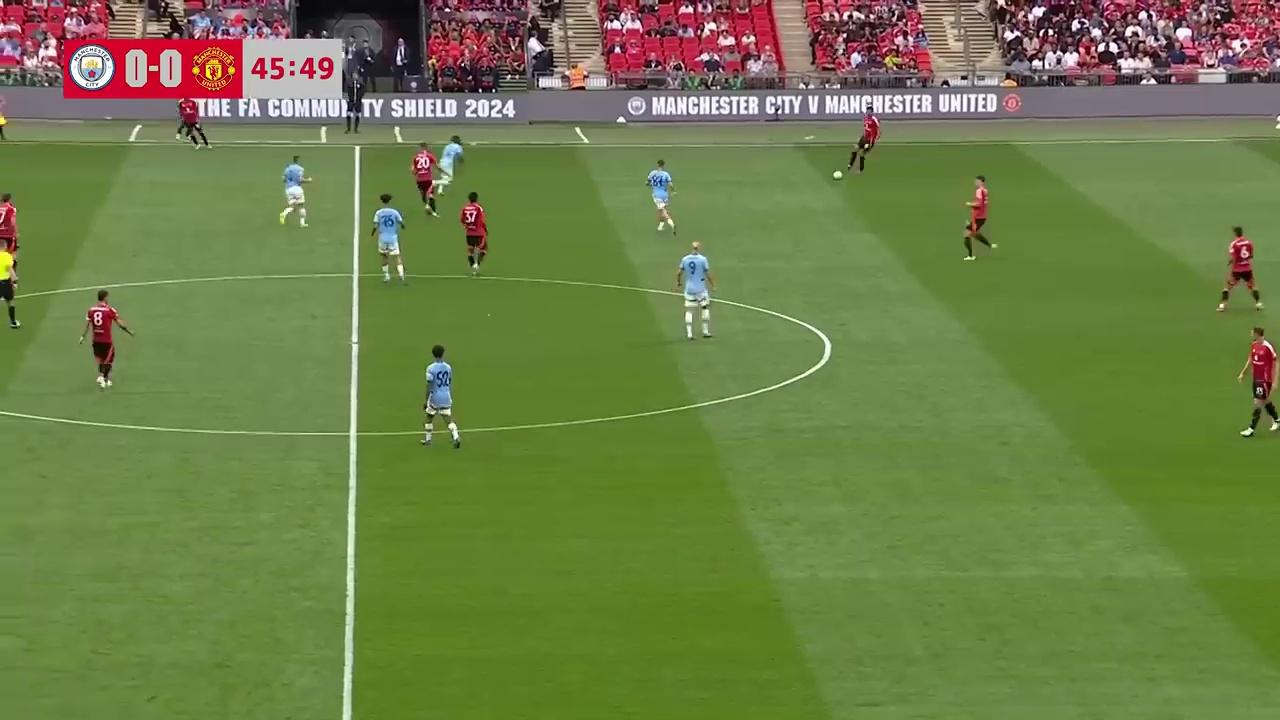ball: (831, 167, 844, 182)
player: (79, 289, 134, 391), (1237, 325, 1279, 438), (420, 343, 462, 449), (1215, 225, 1264, 313), (673, 240, 715, 341), (370, 193, 407, 285), (961, 176, 996, 260), (278, 154, 315, 227), (459, 191, 488, 276), (847, 103, 881, 174), (645, 159, 676, 234), (410, 144, 438, 218), (176, 98, 211, 149), (436, 135, 464, 189), (0, 191, 19, 259)
referee: (0, 241, 22, 329), (0, 90, 9, 144)
